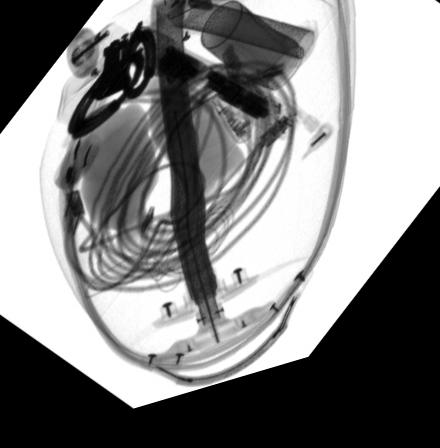Baton: (126, 32, 321, 167)
HandCuffs: (67, 28, 156, 145)
